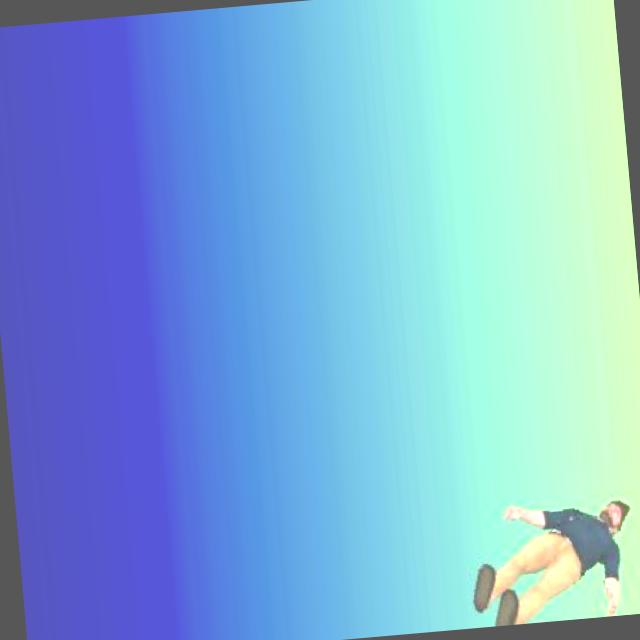Person: (461, 493, 640, 626)
